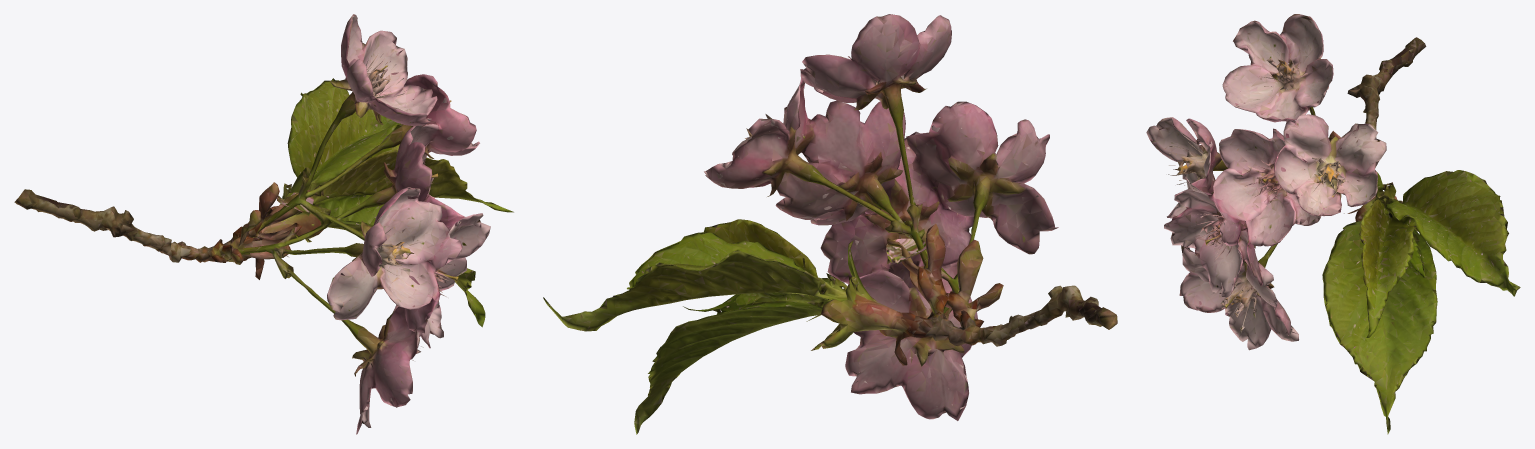
The model's file is kawazu_sakura_ascii_ready.glb.
The picture shows the model from 3 angles, left to right: view 1: azimuth 30°, elevation 25°; view 2: azimuth 150°, elevation 25°; view 3: azimuth 270°, elevation 25°; orthographic projection. The views are drawn at different scales.
Parts seen in each view (by area): view 1: SakuraBranchMain; view 2: SakuraBranchMain, SakuraPetalChip; view 3: SakuraBranchMain.
Part boxes in pixels (x1,y1,x2,y2): SakuraBranchMain: (14,14,513,434); SakuraBranchMain: (543,14,1117,434); SakuraPetalChip: (886,238,926,263); SakuraBranchMain: (1146,14,1520,434).
Bounding box in the file's own units: 5 × 3.93 × 3.88.
Materials: 1 (1 with a texture image).
